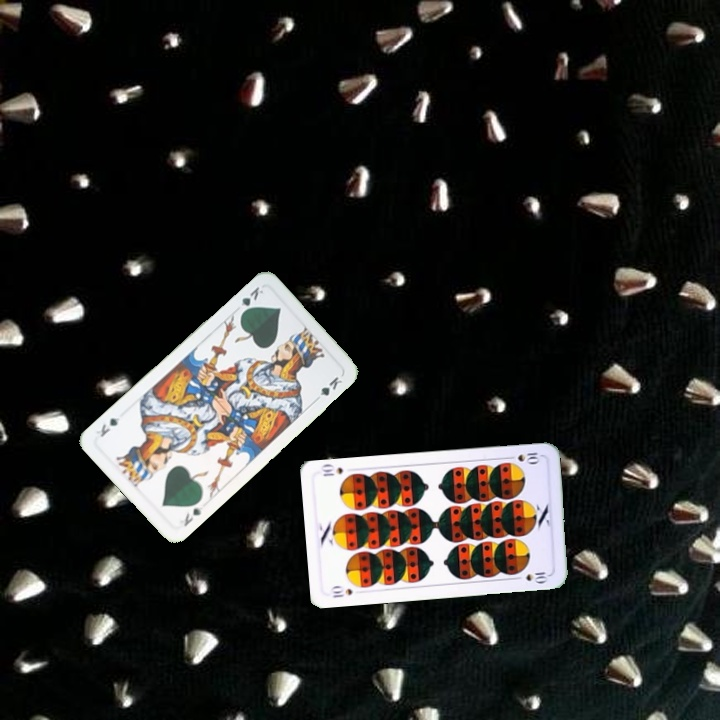GK: (236, 282, 266, 317), (180, 502, 206, 529)
S10: (503, 448, 542, 467), (327, 582, 355, 600)
